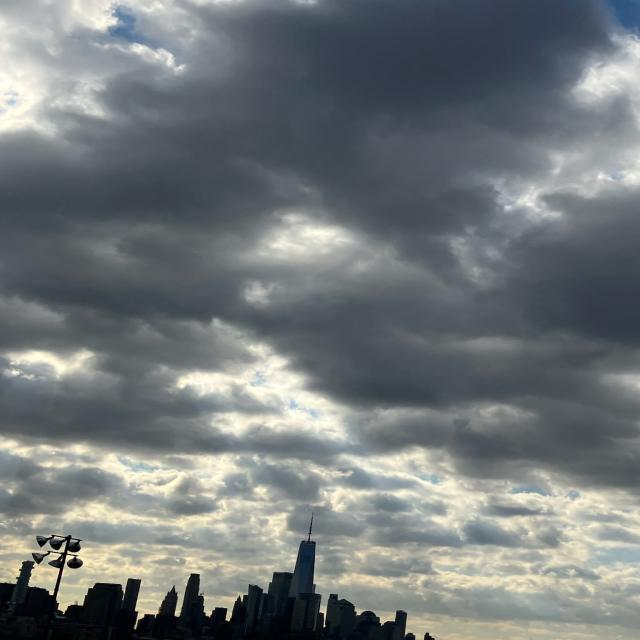WTC: (291, 511, 317, 595)
